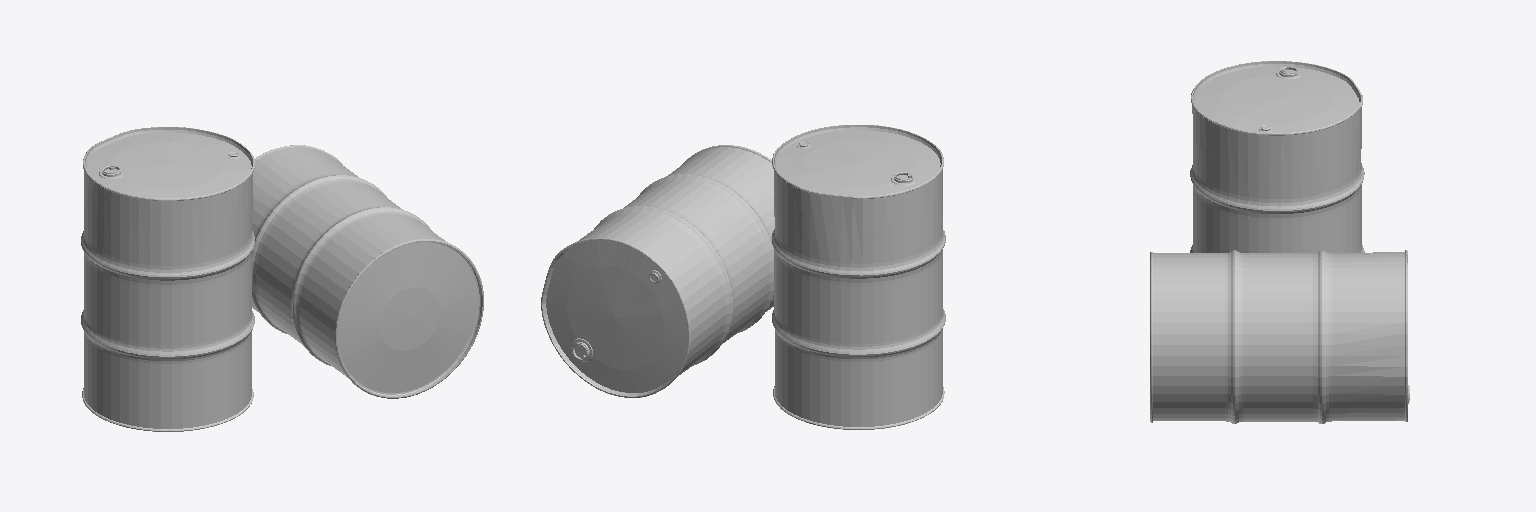
The model's file is barril_deco.obj.
The picture shows the model from 3 angles: view 1: azimuth 30°, elevation 25°; view 2: azimuth 150°, elevation 25°; view 3: azimuth 270°, elevation 25°; orthographic projection.
Parts seen in each view (by area): view 1: plechovy_sud_1_low_plechovy_sud_1_low_0, plechovy_sud_1_low001_plechovy_sud_1_low_0; view 2: plechovy_sud_1_low_plechovy_sud_1_low_0, plechovy_sud_1_low001_plechovy_sud_1_low_0; view 3: plechovy_sud_1_low001_plechovy_sud_1_low_0, plechovy_sud_1_low_plechovy_sud_1_low_0.
Boxes of the visible parts, <box> form: plechovy_sud_1_low_plechovy_sud_1_low_0: <box>81,127,254,431</box>; plechovy_sud_1_low001_plechovy_sud_1_low_0: <box>252,145,483,398</box>; plechovy_sud_1_low_plechovy_sud_1_low_0: <box>772,125,945,429</box>; plechovy_sud_1_low001_plechovy_sud_1_low_0: <box>541,145,774,397</box>; plechovy_sud_1_low001_plechovy_sud_1_low_0: <box>1150,250,1409,423</box>; plechovy_sud_1_low_plechovy_sud_1_low_0: <box>1190,61,1364,252</box>.
Bounding box in the file's own units: 1.65 × 1.12 × 1.12.